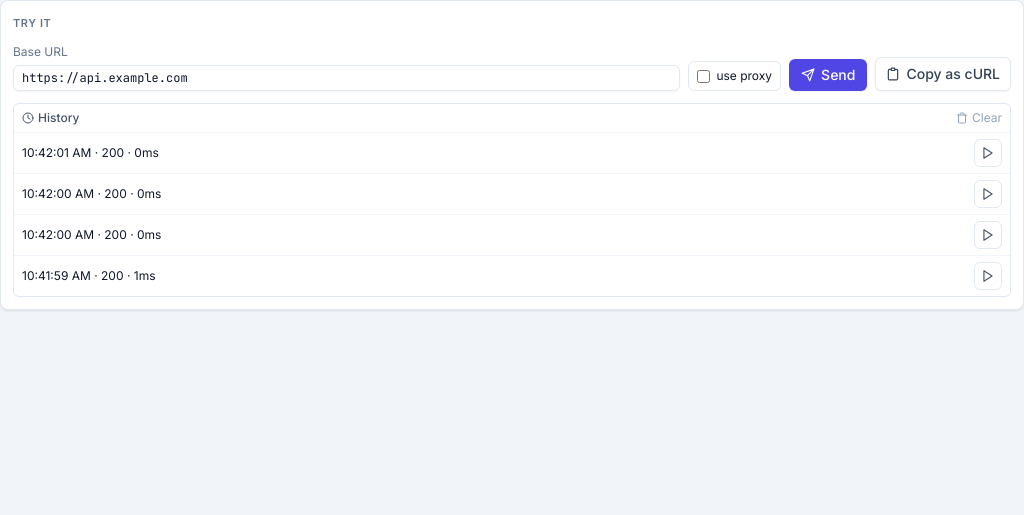
Test case: non-2xx response: skips captures, renders no capture row
Click the button "Send" at (828, 75), box [789, 59, 867, 91]
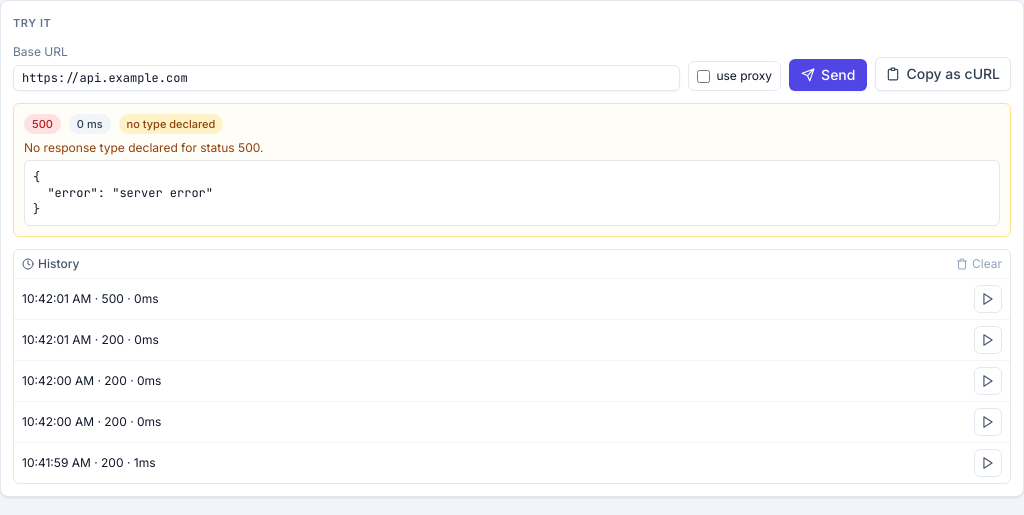
Result: the text "500" in the row of "no type declared" is shown at [32, 117, 53, 131]
